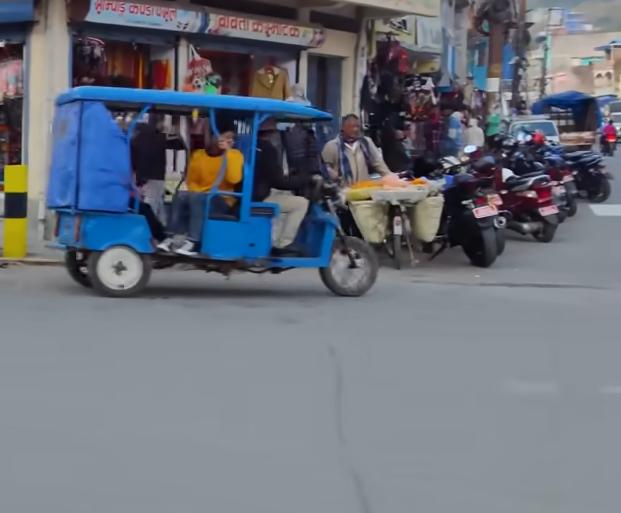e-rickshaw: (46, 84, 382, 302)
